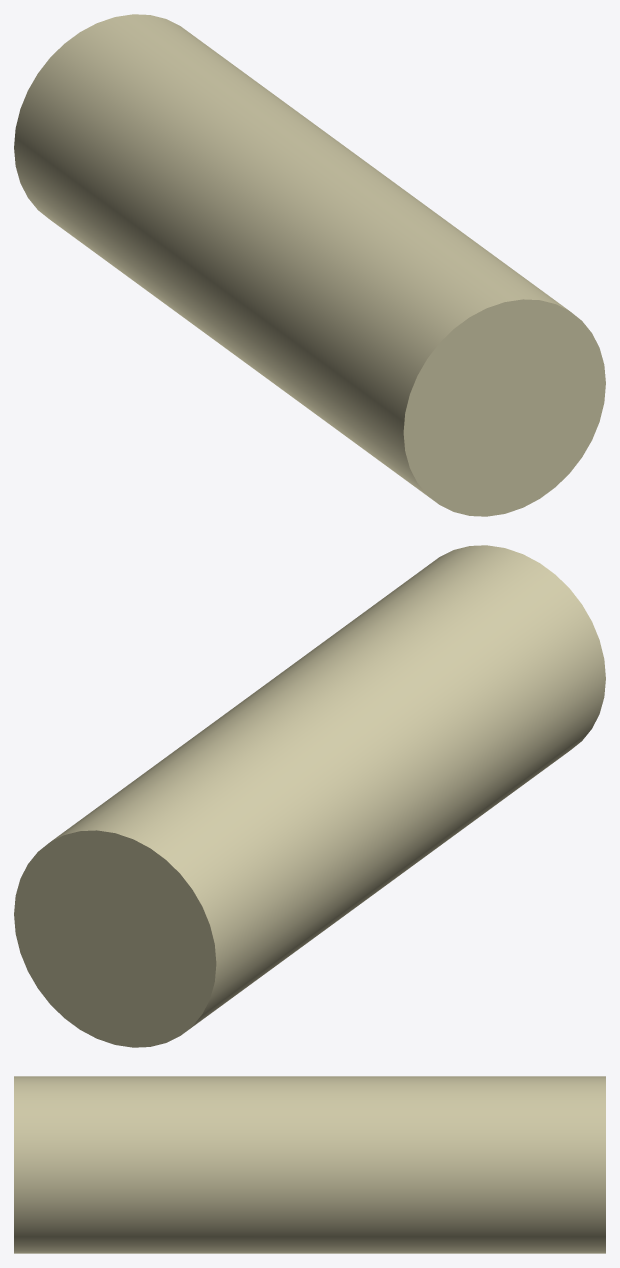
Rendered from Shape_Pipe.FBX.
The picture shows the model from 3 angles, top to bottom: view 1: azimuth 30°, elevation 25°; view 2: azimuth 150°, elevation 25°; view 3: azimuth 270°, elevation 25°; orthographic projection. The views are drawn at different scales.
Visible parts, largest first — view 1: Shape_Pipe; view 2: Shape_Pipe; view 3: Shape_Pipe.
Boxes of the visible parts, box(x1,y1,x2,y2) form: Shape_Pipe: box(14, 14, 605, 516); Shape_Pipe: box(14, 545, 605, 1047); Shape_Pipe: box(14, 1076, 605, 1253).
Size of what is drawn, in the model's own units: 30 by 100 by 30.
